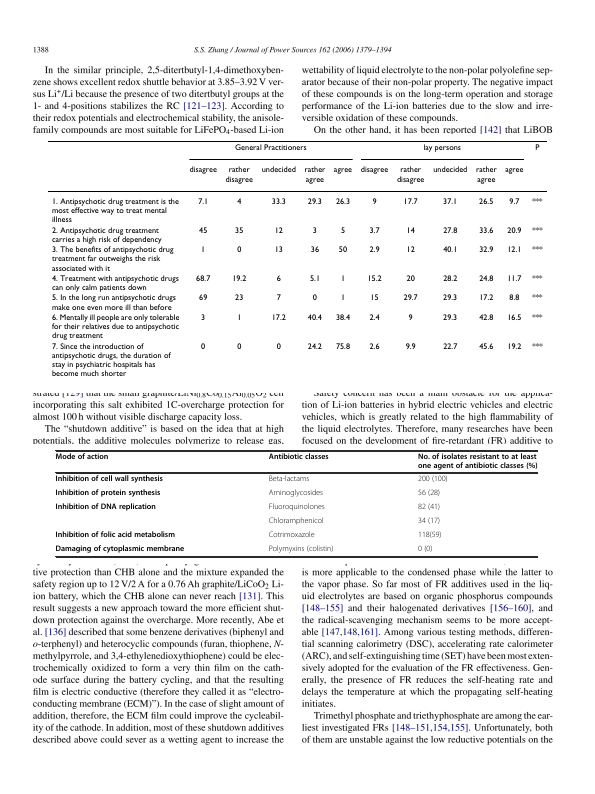borderless: (46, 139, 548, 387), (54, 449, 537, 556)
cell: (50, 342, 171, 379), (50, 313, 180, 341), (50, 197, 179, 225), (50, 245, 174, 274), (50, 293, 176, 313), (50, 274, 179, 293), (417, 453, 538, 471), (50, 226, 162, 245), (55, 545, 185, 555), (55, 531, 176, 541), (55, 475, 164, 485), (55, 489, 161, 499), (55, 503, 157, 513), (233, 143, 307, 153), (268, 545, 334, 555), (268, 503, 326, 513), (395, 166, 425, 185), (268, 489, 324, 499), (268, 517, 324, 527), (268, 453, 330, 462), (224, 166, 253, 185), (55, 453, 109, 462), (268, 531, 315, 541), (303, 166, 326, 185), (474, 166, 497, 185), (268, 475, 310, 485), (422, 143, 461, 153), (260, 166, 296, 175), (432, 166, 468, 175), (417, 475, 448, 485), (359, 166, 389, 175), (188, 166, 217, 175), (417, 531, 442, 541), (417, 489, 441, 499), (417, 503, 441, 513), (417, 517, 441, 527), (332, 166, 353, 175), (504, 166, 524, 175), (334, 313, 351, 323), (334, 342, 351, 352), (417, 545, 433, 555), (270, 197, 286, 207), (306, 197, 322, 207), (334, 197, 350, 207), (402, 197, 418, 207), (442, 197, 458, 207), (478, 197, 494, 207), (442, 226, 458, 236), (478, 226, 494, 236), (506, 226, 522, 236), (442, 245, 458, 255), (478, 245, 494, 255), (506, 245, 522, 255), (195, 274, 211, 284), (231, 274, 247, 284), (366, 274, 382, 284), (442, 274, 458, 284), (478, 274, 494, 284), (506, 274, 522, 284), (402, 293, 418, 303), (442, 293, 458, 303), (478, 293, 494, 303), (270, 313, 286, 323), (306, 313, 322, 323), (442, 313, 458, 323), (478, 313, 494, 323), (506, 313, 522, 323), (306, 342, 322, 352), (442, 342, 458, 352), (478, 342, 494, 352), (506, 342, 522, 352), (197, 197, 209, 207), (508, 197, 520, 207), (531, 197, 543, 207), (368, 226, 380, 236), (531, 226, 543, 236), (368, 245, 380, 255), (531, 245, 543, 255), (308, 274, 320, 284), (531, 274, 543, 284), (508, 293, 520, 303), (531, 293, 543, 303), (368, 313, 380, 323), (531, 313, 543, 323), (368, 342, 380, 352), (404, 342, 416, 352), (531, 342, 543, 352), (309, 245, 320, 255), (337, 245, 348, 255), (198, 226, 208, 236), (234, 226, 244, 236), (273, 226, 283, 236), (405, 226, 415, 236), (273, 245, 283, 255), (405, 245, 415, 255), (405, 274, 415, 284), (198, 293, 208, 303), (234, 293, 244, 303), (369, 293, 379, 303), (339, 226, 346, 236), (339, 274, 346, 284), (339, 293, 346, 303), (534, 143, 540, 153), (236, 197, 242, 207), (371, 197, 377, 207), (311, 226, 317, 236), (200, 245, 206, 255), (236, 245, 242, 255), (275, 274, 281, 284), (275, 293, 281, 303), (311, 293, 317, 303), (200, 313, 206, 323), (236, 313, 242, 323), (407, 313, 413, 323), (200, 342, 206, 352), (236, 342, 242, 352), (275, 342, 281, 352)
